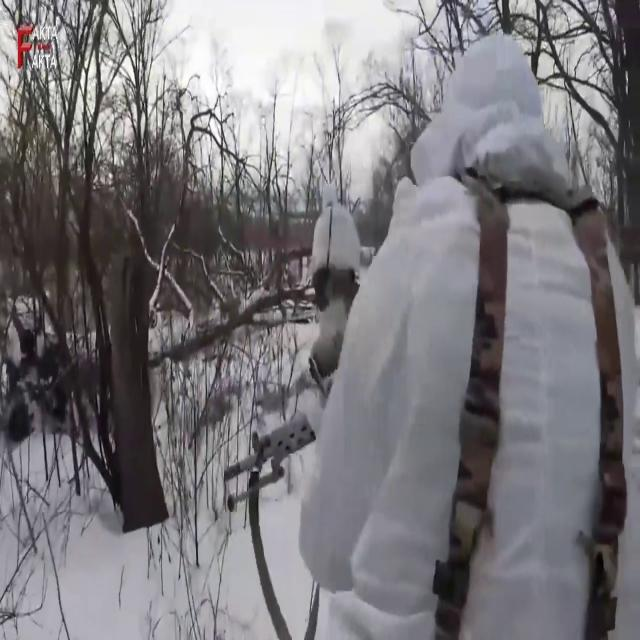Human: (300, 37, 639, 617), (223, 204, 360, 511)
